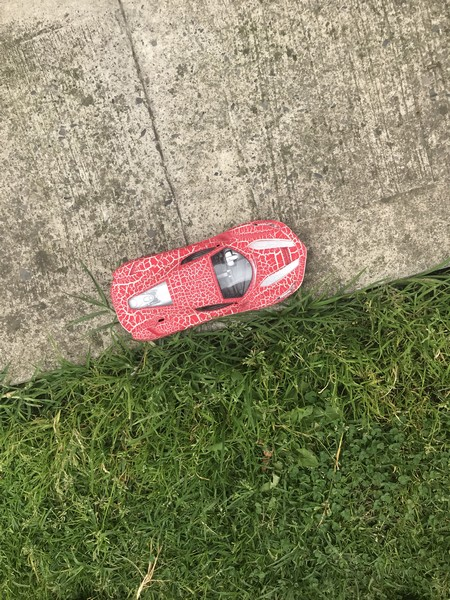RC: (107, 219, 310, 344)
